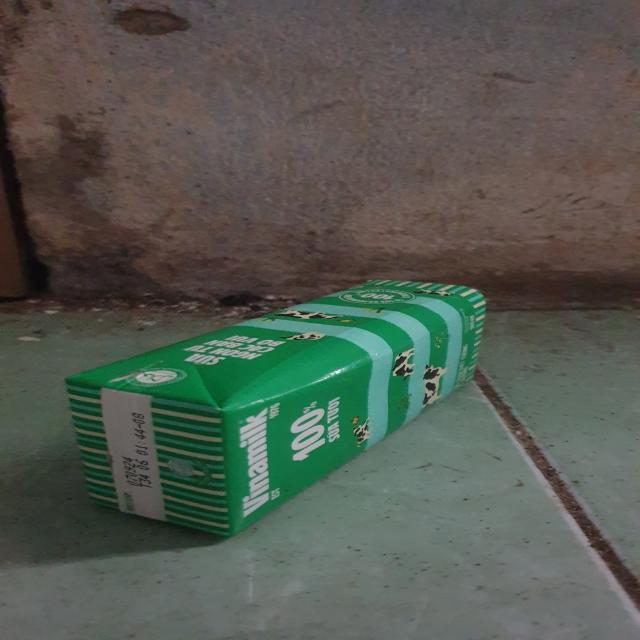Vina: (63, 277, 484, 541)
